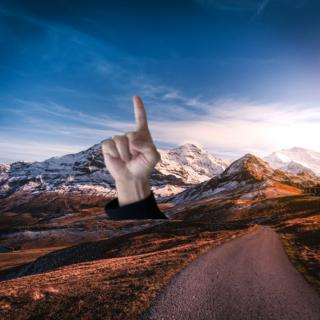IRRITATED: (95, 92, 164, 182)
